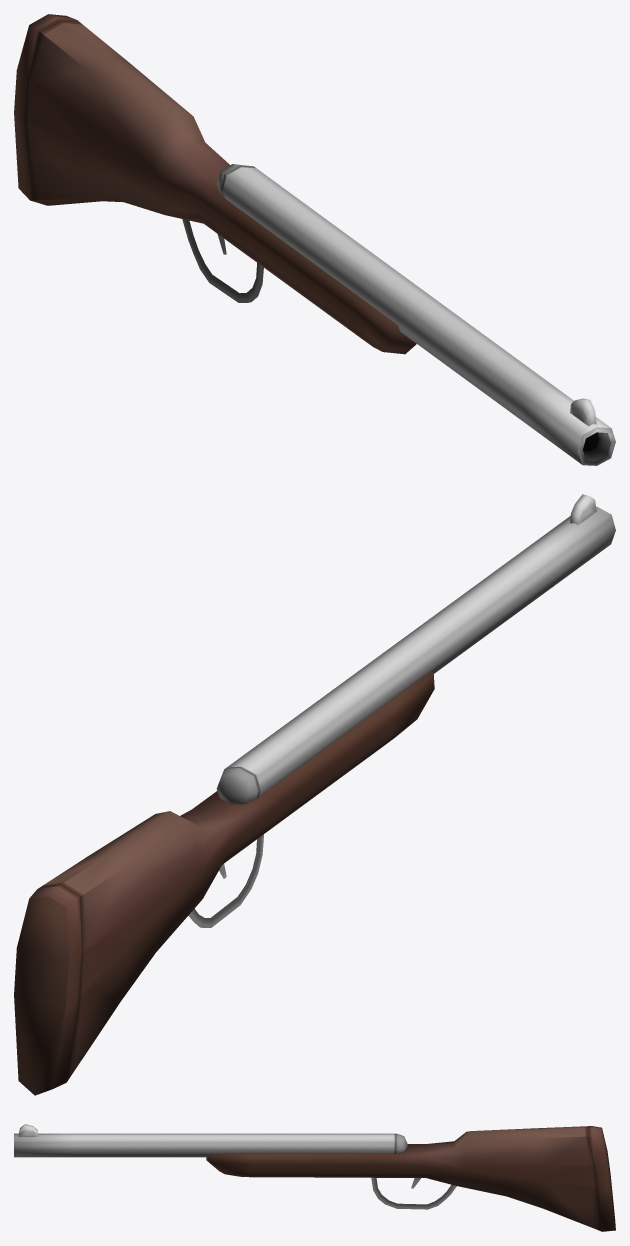
File: elmer_fudd_weapon.obj
3 renders of one model, top to bottom at view 1: azimuth 30°, elevation 25°; view 2: azimuth 150°, elevation 25°; view 3: azimuth 270°, elevation 25°, orthographic. The views are drawn at different scales.
Parts seen in each view (by area): view 1: elmer_fudd_default_weapon_0; view 2: elmer_fudd_default_weapon_0; view 3: elmer_fudd_default_weapon_0.
Part boxes in pixels (left/top/right/bottom): elmer_fudd_default_weapon_0: left=14, top=14, right=615, bottom=465; elmer_fudd_default_weapon_0: left=14, top=494, right=615, bottom=1095; elmer_fudd_default_weapon_0: left=14, top=1124, right=615, bottom=1231.
Size of the model in its own units: 0.0594 by 0.207 by 1.06.
Materials: 1 (1 with a texture image).
